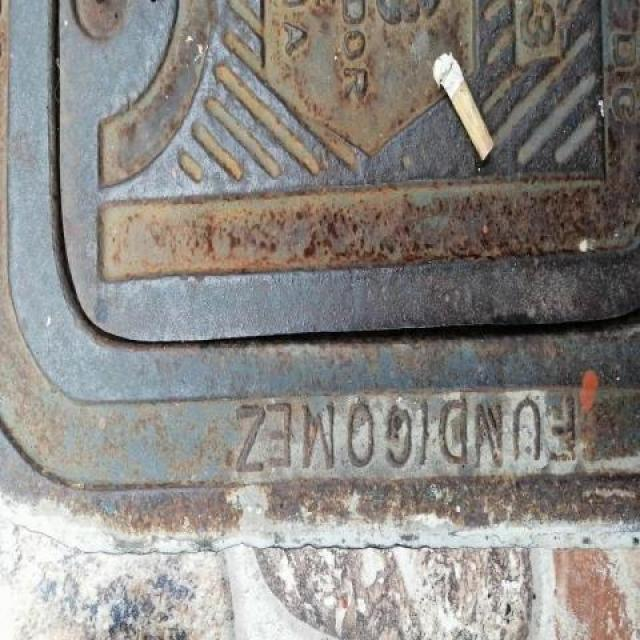non-organic waste: (427, 48, 498, 167)
